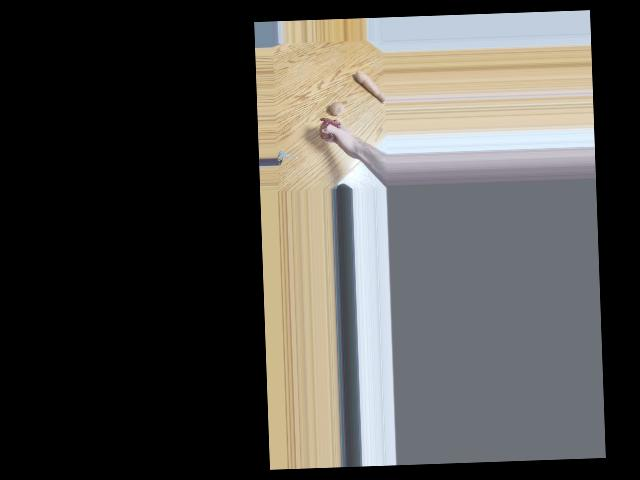onion: (329, 99, 344, 118)
